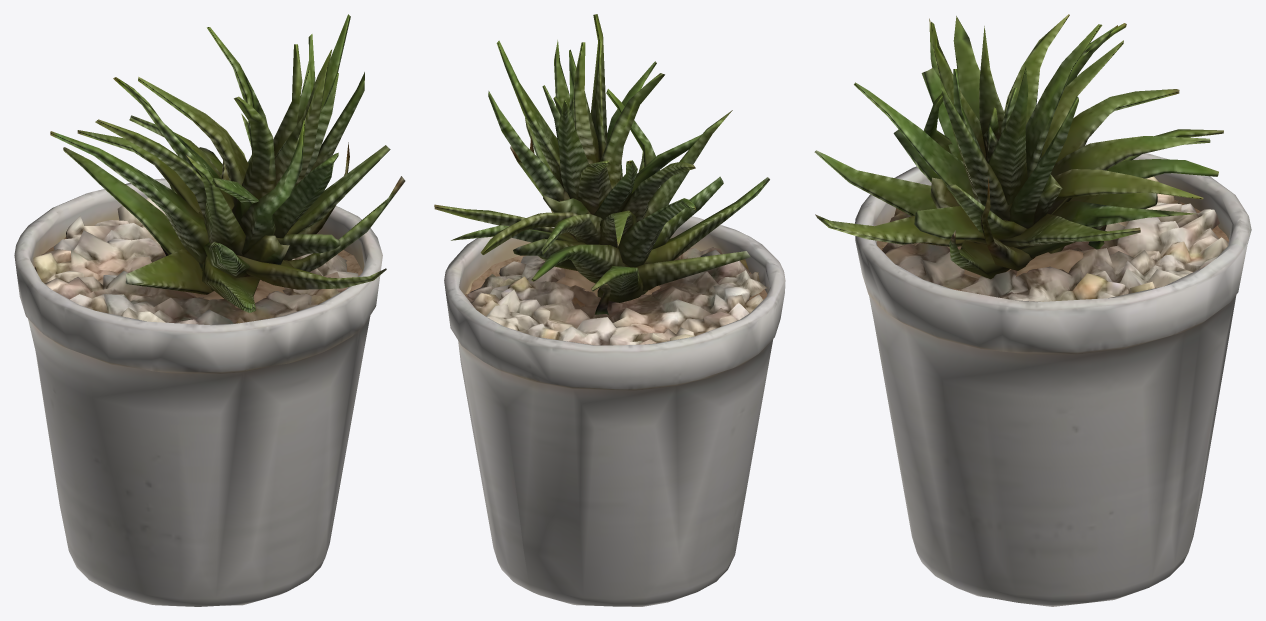
Rendered from potted_plant_04.glb.
The picture shows the model from 3 angles, left to right: view 1: azimuth 30°, elevation 25°; view 2: azimuth 150°, elevation 25°; view 3: azimuth 270°, elevation 25°; orthographic projection. The views are drawn at different scales.
Parts seen in each view (by area): view 1: potted_plant_04_ground; view 2: potted_plant_04_ground; view 3: potted_plant_04_ground.
Boxes of the visible parts, x1=… form: potted_plant_04_ground: x1=14, y1=14, x2=405, y2=606; potted_plant_04_ground: x1=434, y1=14, x2=785, y2=606; potted_plant_04_ground: x1=814, y1=14, x2=1251, y2=606.
Size of the model in its own units: 0.1672 by 0.2672 by 0.1845.
Materials: 1 (1 with a texture image).
